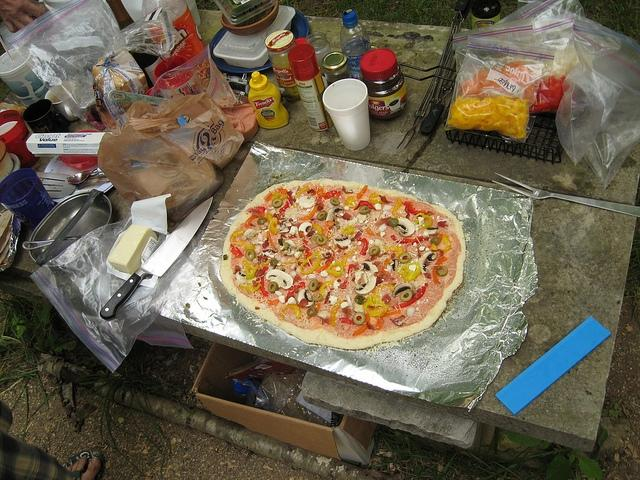mushroom: (354, 262, 378, 296), (266, 269, 294, 290), (418, 251, 438, 273), (394, 218, 416, 237), (326, 206, 344, 226), (392, 282, 413, 299), (297, 288, 315, 307), (235, 270, 258, 284), (242, 228, 262, 240), (298, 196, 316, 208), (334, 236, 352, 248), (285, 240, 297, 256), (298, 222, 312, 235), (424, 226, 440, 236), (317, 310, 331, 318), (390, 259, 399, 271)
